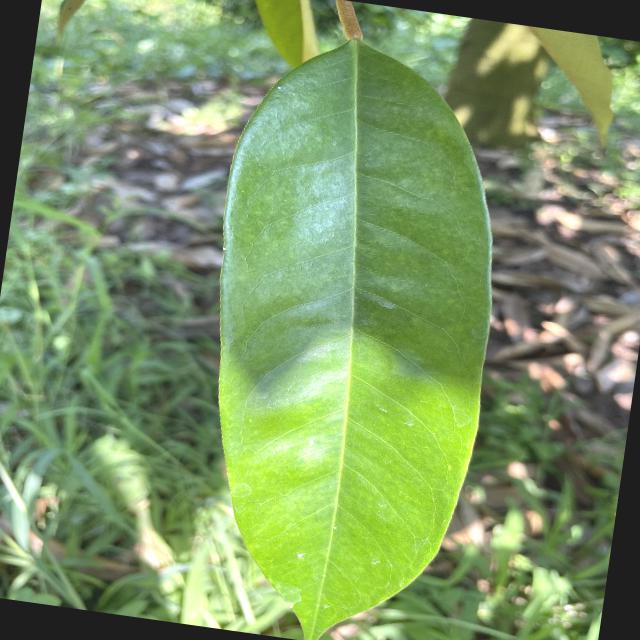No Disease: (159, 11, 543, 639)
